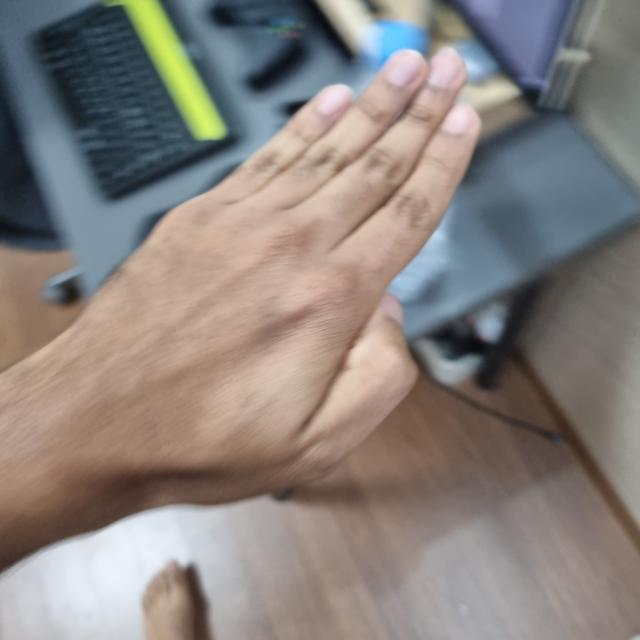Paper: (46, 51, 478, 500)
